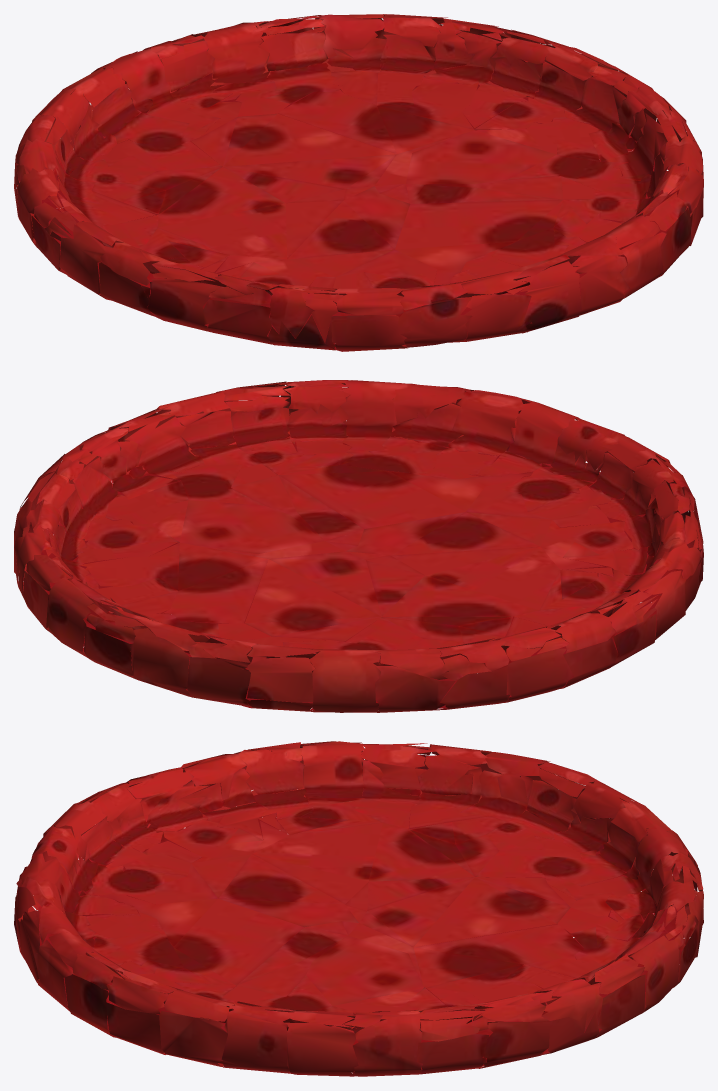
The model's file is meshy-pan-pepperoni.glb.
The picture shows the model from 3 angles, top to bottom: view 1: azimuth 30°, elevation 25°; view 2: azimuth 150°, elevation 25°; view 3: azimuth 270°, elevation 25°; orthographic projection.
Parts seen in each view (by area): view 1: Mesh_0; view 2: Mesh_0; view 3: Mesh_0.
Boxes of the visible parts, box(x1,y1,x2,y2) form: Mesh_0: box(14, 14, 703, 351); Mesh_0: box(14, 380, 703, 712); Mesh_0: box(14, 741, 703, 1076).
Size of the model in its own units: 1.91 by 0.1963 by 1.9.
Materials: 1 (1 with a texture image).
